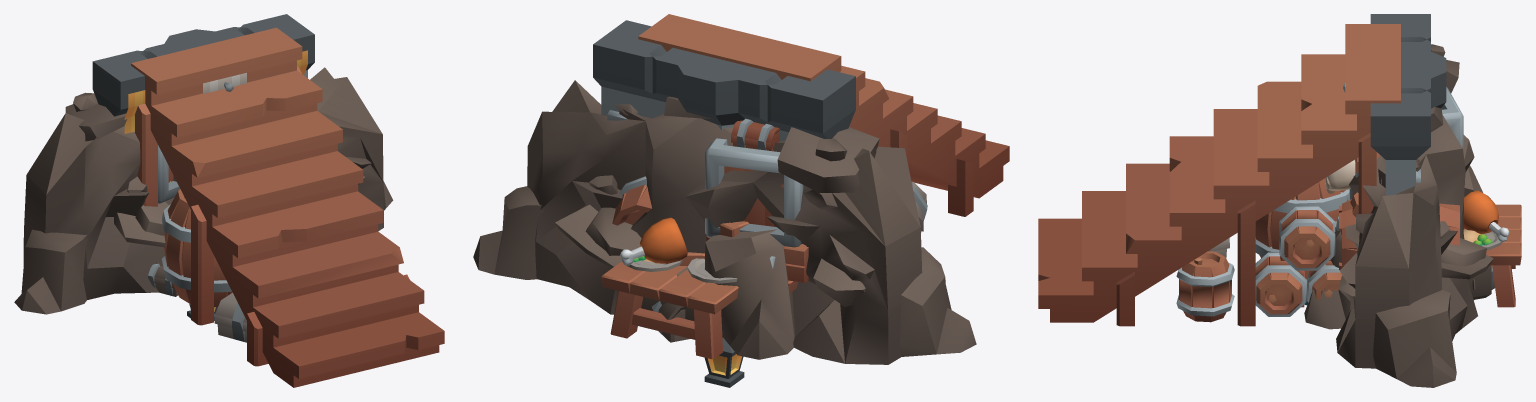
The model's file is env-tower.glb.
3 views of the same model, side by side, from view 1: azimuth 30°, elevation 25°; view 2: azimuth 150°, elevation 25°; view 3: azimuth 270°, elevation 25° (orthographic). The views are drawn at different scales.
Parts seen in each view (by area): view 1: stairs_wood_decorated, rubble_large, wall_doorway, box_stacked, pillar_decorated, banner_triple_yellow; view 2: rubble_large, stairs_wood_decorated, wall_doorway, table_long_decorated_A, box_stacked, pillar_decorated, keg_decorated, lantern_hanging, crates_stacked; view 3: stairs_wood_decorated, rubble_large, wall_doorway, table_long_decorated_A, pillar_decorated, keg_decorated, box_stacked, post_skull_skull, coffin_decorated.
Part boxes in pixels (x1=…): stairs_wood_decorated: x1=131, y1=27, x2=444, y2=387; rubble_large: x1=14, y1=67, x2=393, y2=314; wall_doorway: x1=92, y1=14, x2=314, y2=126; box_stacked: x1=148, y1=145, x2=180, y2=296; pillar_decorated: x1=164, y1=29, x2=246, y2=93; banner_triple_yellow: x1=124, y1=50, x2=307, y2=181; rubble_large: x1=473, y1=80, x2=976, y2=364; stairs_wood_decorated: x1=638, y1=14, x2=1009, y2=232; wall_doorway: x1=593, y1=20, x2=855, y2=141; table_long_decorated_A: x1=601, y1=217, x2=738, y2=359; box_stacked: x1=652, y1=118, x2=803, y2=342; pillar_decorated: x1=673, y1=50, x2=765, y2=129; keg_decorated: x1=612, y1=176, x2=808, y2=292; lantern_hanging: x1=704, y1=338, x2=744, y2=387; crates_stacked: x1=679, y1=221, x2=748, y2=266; stairs_wood_decorated: x1=1038, y1=24, x2=1400, y2=326; rubble_large: x1=1304, y1=44, x2=1493, y2=387; wall_doorway: x1=1370, y1=14, x2=1430, y2=195; table_long_decorated_A: x1=1280, y1=190, x2=1521, y2=307; pillar_decorated: x1=1343, y1=46, x2=1446, y2=199; keg_decorated: x1=1339, y1=199, x2=1459, y2=269; box_stacked: x1=1304, y1=87, x2=1494, y2=305; post_skull_skull: x1=1325, y1=160, x2=1355, y2=193; coffin_decorated: x1=1467, y1=265, x2=1491, y2=296.
Bounding box in the file's own units: 8.13 × 5.36 × 8.
Materials: 2 (2 with a texture image).
